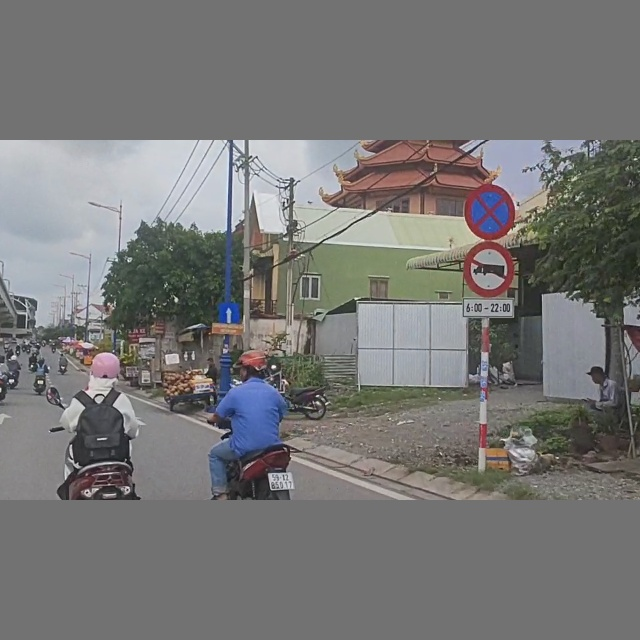B.8a: (463, 241, 513, 297)
I.407a: (217, 301, 241, 325)
P.130: (464, 183, 516, 240)
